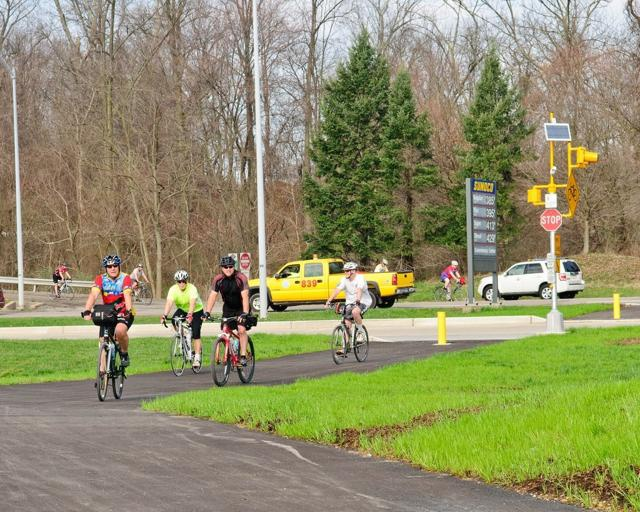non-vehicle: (200, 313, 257, 385), (83, 310, 125, 400), (327, 301, 370, 365), (160, 316, 201, 375), (432, 279, 466, 301), (130, 281, 154, 306), (50, 279, 75, 300)
